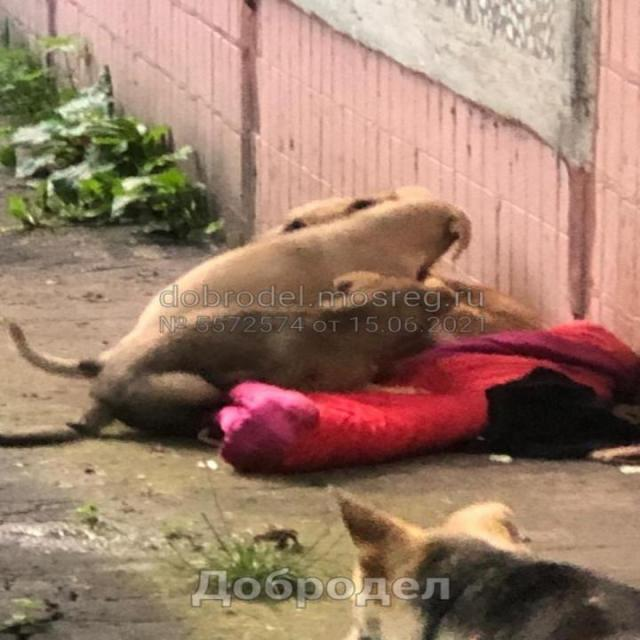dog: (0, 176, 483, 432)
